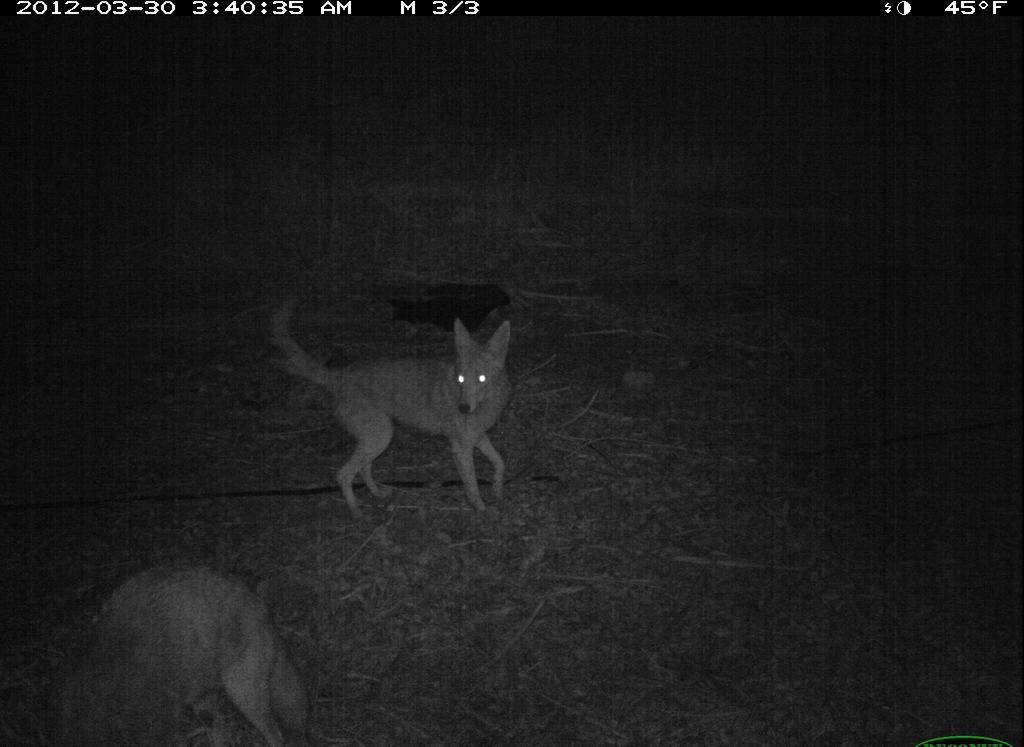coyote: (262, 296, 538, 520), (49, 553, 321, 740)
